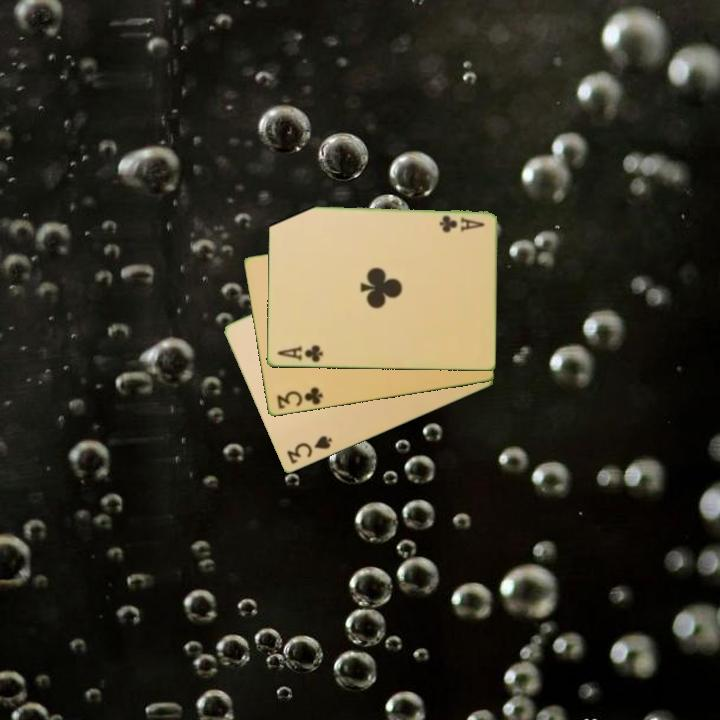3c: (273, 384, 326, 412)
3s: (283, 432, 335, 467)
Ac: (273, 342, 325, 365), (435, 212, 487, 235)
